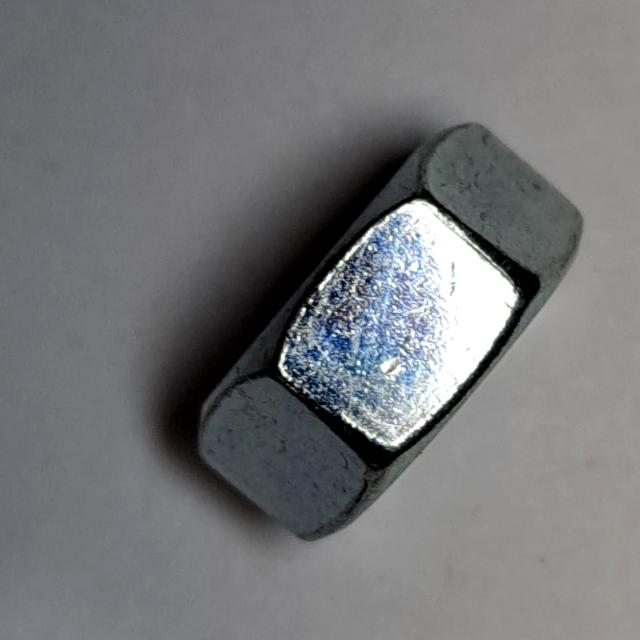Side_Excellent: (179, 108, 603, 567)
